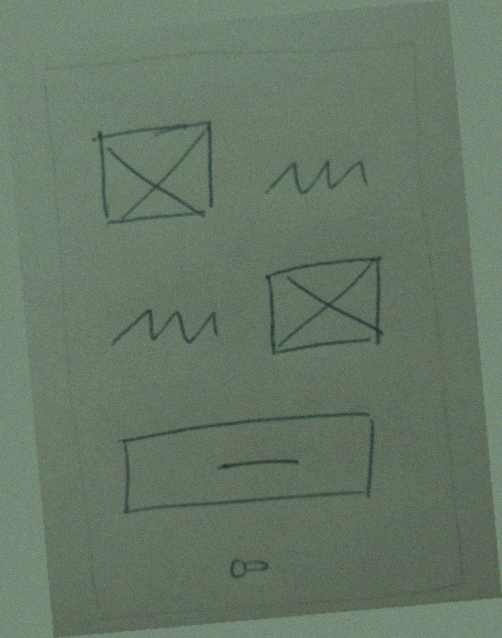button: (99, 399, 390, 532)
image: (78, 107, 234, 237), (252, 247, 400, 369)
switch: (212, 539, 287, 592)
text: (92, 290, 238, 363), (252, 141, 380, 212)
